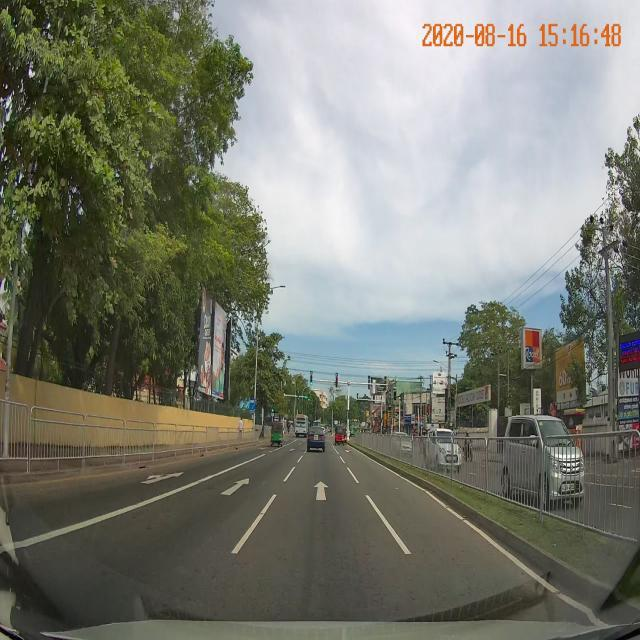forward: (258, 477, 375, 511)
